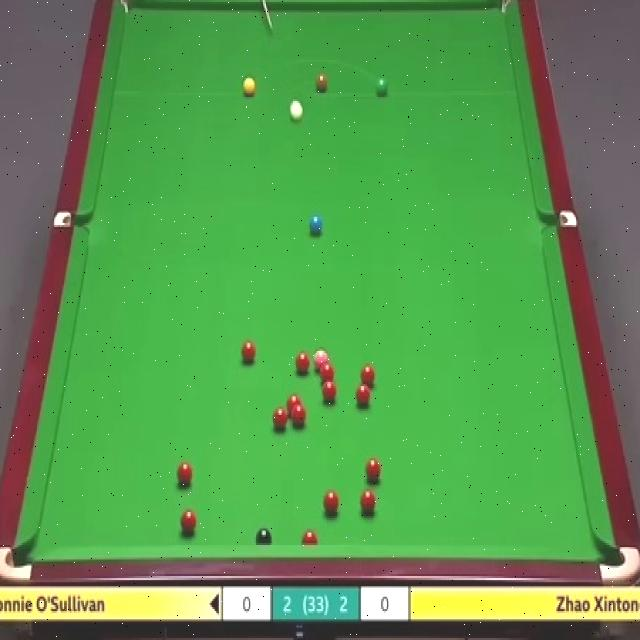black-ball: (255, 524, 272, 549)
blue-ball: (310, 216, 323, 236)
brown-ball: (315, 76, 328, 96)
green-ball: (374, 76, 389, 97)
pink-ball: (313, 347, 328, 370)
red-ball: (359, 487, 377, 516), (364, 456, 382, 484), (323, 488, 340, 515), (176, 461, 194, 486), (239, 339, 256, 365), (180, 508, 197, 533), (322, 379, 338, 405), (272, 406, 288, 431), (294, 350, 310, 374), (360, 364, 377, 385), (356, 383, 370, 408), (292, 402, 306, 426), (319, 363, 335, 382), (301, 530, 318, 546), (287, 394, 301, 412)
white-ball: (290, 98, 304, 124)
yellow-ball: (242, 74, 255, 97)
